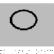no answer: (6, 9, 40, 35)
